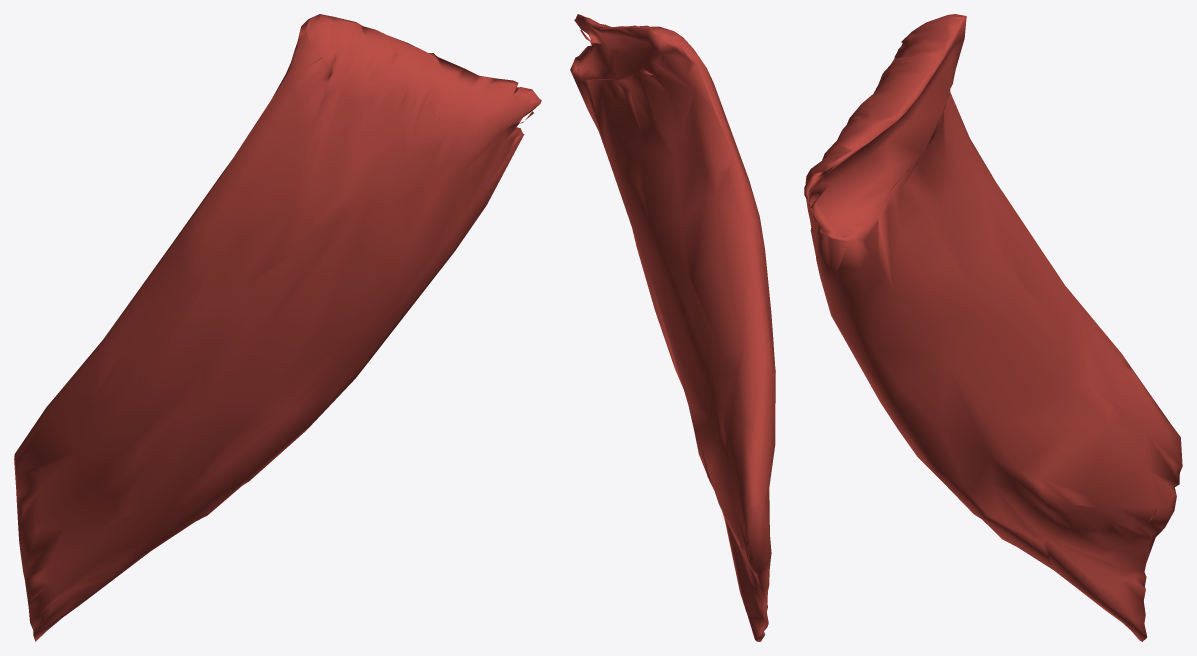
Rendered from musculos-pectineus-muscle-r.glb.
3 views of the same model, side by side, from view 1: azimuth 30°, elevation 25°; view 2: azimuth 150°, elevation 25°; view 3: azimuth 270°, elevation 25° (orthographic). The views are drawn at different scales.
Visible parts, largest first — view 1: Pectineus muscle.r; view 2: Pectineus muscle.r; view 3: Pectineus muscle.r.
Boxes of the visible parts, x1=… form: Pectineus muscle.r: x1=14, y1=14, x2=541, y2=641; Pectineus muscle.r: x1=570, y1=14, x2=775, y2=641; Pectineus muscle.r: x1=804, y1=14, x2=1182, y2=641.
Bounding box in the file's own units: 0.0828 × 0.1312 × 0.0606.
